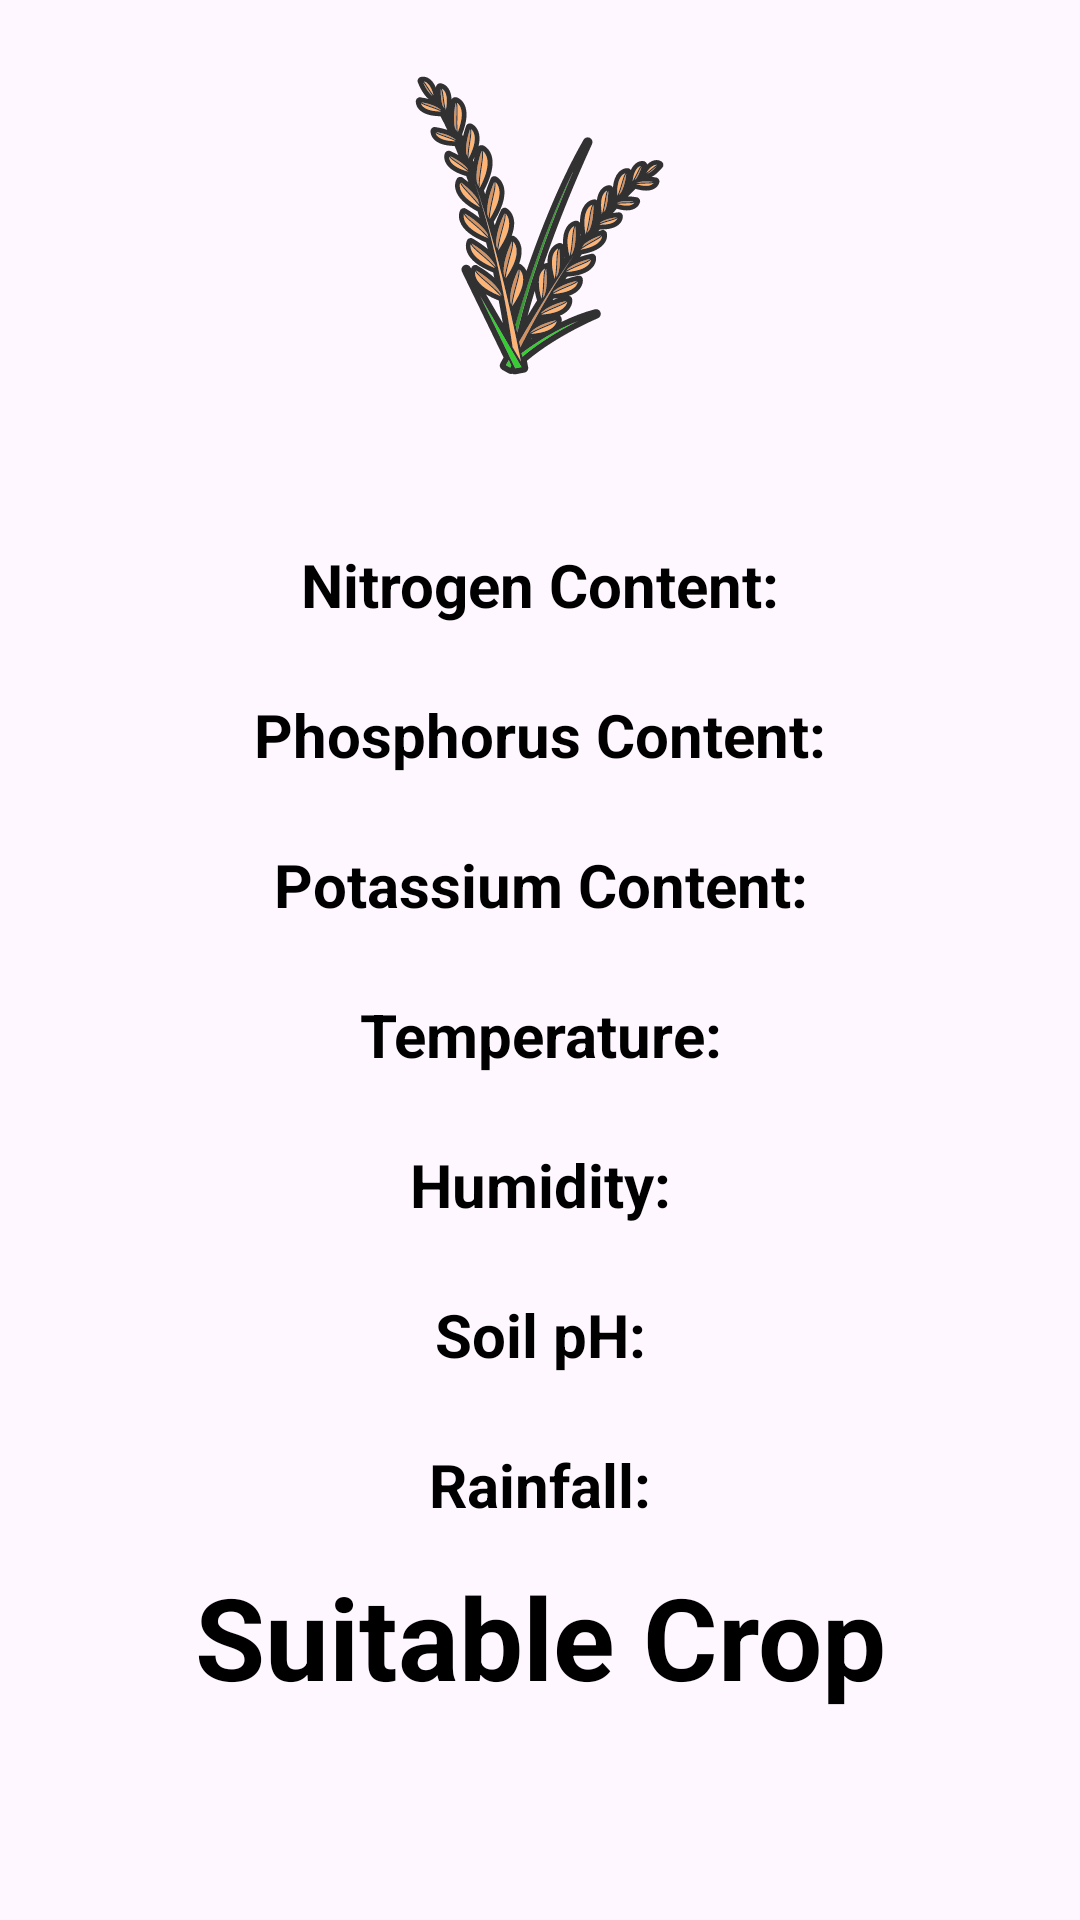

Where icons sit on this 1080×1920 app screen, as (x1, y1, x2, y2):
paddy: (415, 76, 664, 375)
